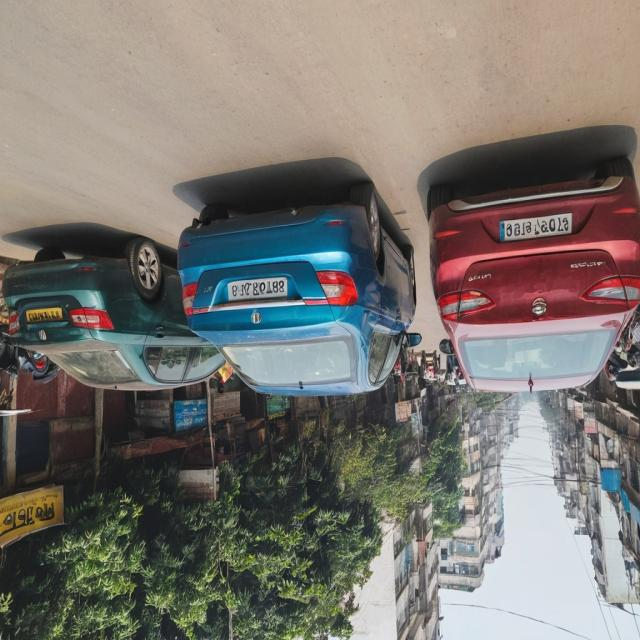blue: (183, 191, 410, 403)
green: (8, 232, 220, 412)
red: (429, 141, 640, 398)
